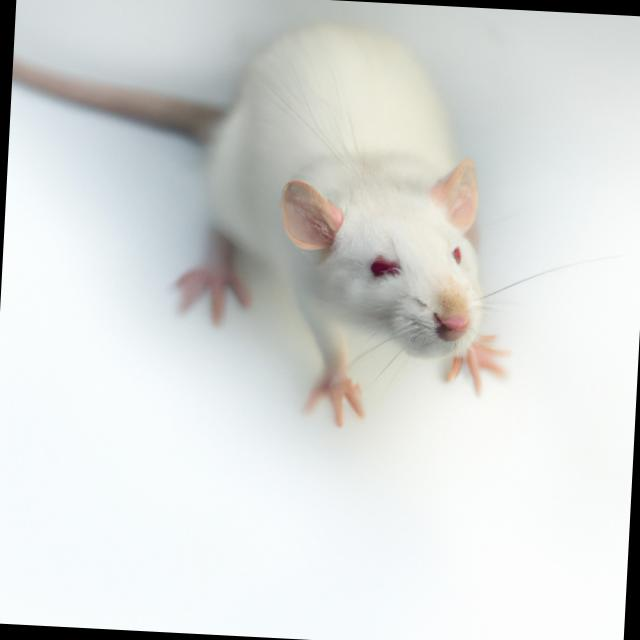rodents: (175, 8, 559, 436)
